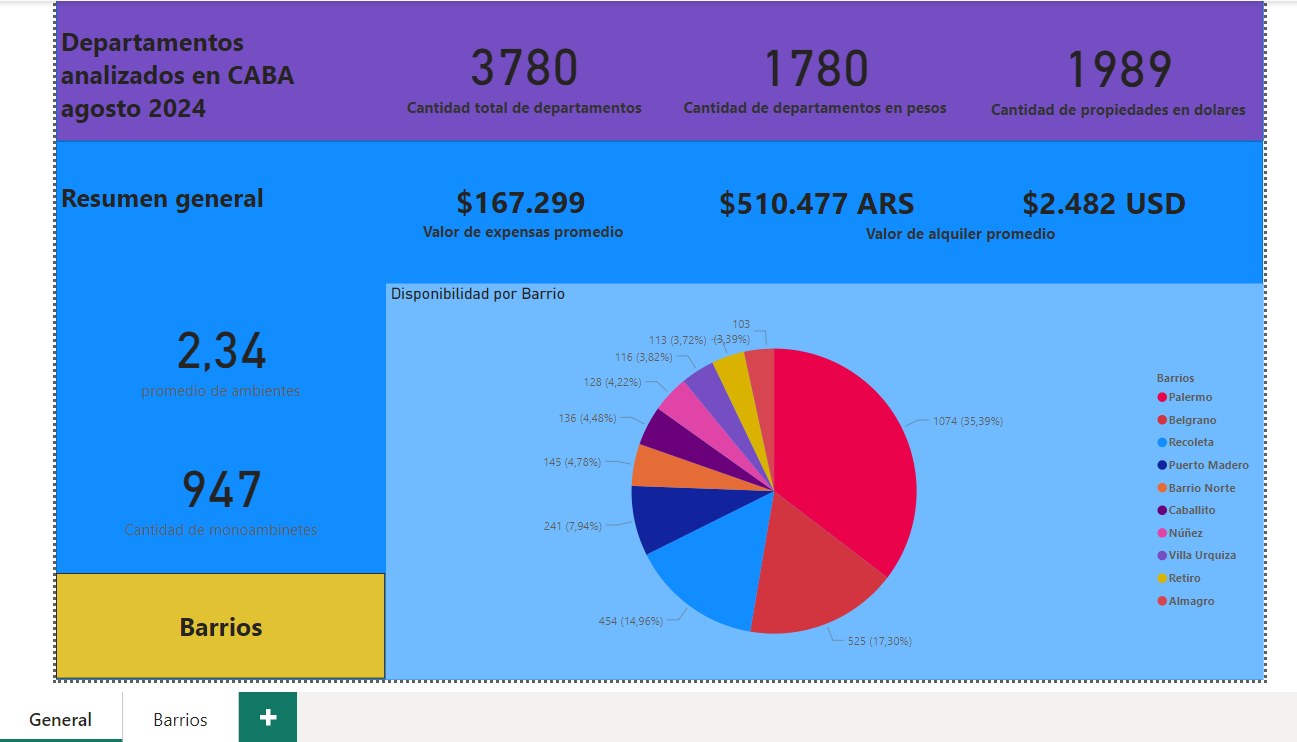

What the dashboard file says about the page in this screenshot:
{"tool":"powerbi","page":{"name":"General","canvas":[1280,720],"ordinal":0},"visuals":[{"type":"shape","box":[0,149,1280,571.2],"z":0},{"type":"shape","box":[0,0,1280.4,149.5],"z":1000},{"type":"textbox","box":[0,1.9,349.6,147.1],"z":2000},{"type":"card","fields":{"Values":["Sheet1.Canitad de departamentos en pesos"]},"box":[639.4,0,330,150],"z":3000},{"type":"card","fields":{"Values":["Sheet1.Cantidad de propiedades en dolares"]},"box":[971.9,1.6,308.6,150],"z":4000},{"type":"card","fields":{"Values":["Sheet1.promedio de ambientes"]},"box":[0,301.9,349.6,145.2],"z":5000},{"type":"card","fields":{"Values":["Sheet1.Cantidad total de departamentos"]},"box":[349.6,0,292.3,149],"z":6000},{"type":"textbox","box":[0,149,292.3,122.3],"z":7000},{"type":"pieChart","title":"Disponibilidad por Barrio","fields":{"Category":["Sheet1.Barrio"],"Y":["Sheet1.Cantidad total de departamentos"]},"box":[349.6,299.9,930.4,420.3],"z":8000},{"type":"textbox","box":[350,150,291,150],"z":9000},{"type":"textbox","box":[640,150.9,640,150.9],"z":10000},{"type":"card","fields":{"Values":["Sheet1.Cantidad de monoambinetes"]},"box":[0,435.6,349.6,171.9],"z":11000},{"type":"pageNavigator","box":[0,607.6,349.9,112.9],"z":12000}]}

Visuals, with their boxes on the page's 1280x720 design canvas (x1, y1, x2, y2). These are canvas units, not pixel positions in the 1297x742 screenshot, which may show the page scaled, cropped or inside an application window:
shape: {"left": 0, "top": 149, "right": 1280, "bottom": 720}
shape: {"left": 0, "top": 0, "right": 1280, "bottom": 150}
textbox: {"left": 0, "top": 2, "right": 350, "bottom": 149}
card - Sheet1.Canitad de departamentos en pesos: {"left": 639, "top": 0, "right": 969, "bottom": 150}
card - Sheet1.Cantidad de propiedades en dolares: {"left": 972, "top": 2, "right": 1280, "bottom": 152}
card - Sheet1.promedio de ambientes: {"left": 0, "top": 302, "right": 350, "bottom": 447}
card - Sheet1.Cantidad total de departamentos: {"left": 350, "top": 0, "right": 642, "bottom": 149}
textbox: {"left": 0, "top": 149, "right": 292, "bottom": 271}
"Disponibilidad por Barrio" pieChart: {"left": 350, "top": 300, "right": 1280, "bottom": 720}
textbox: {"left": 350, "top": 150, "right": 641, "bottom": 300}
textbox: {"left": 640, "top": 151, "right": 1280, "bottom": 302}
card - Sheet1.Cantidad de monoambinetes: {"left": 0, "top": 436, "right": 350, "bottom": 608}
pageNavigator: {"left": 0, "top": 608, "right": 350, "bottom": 720}
